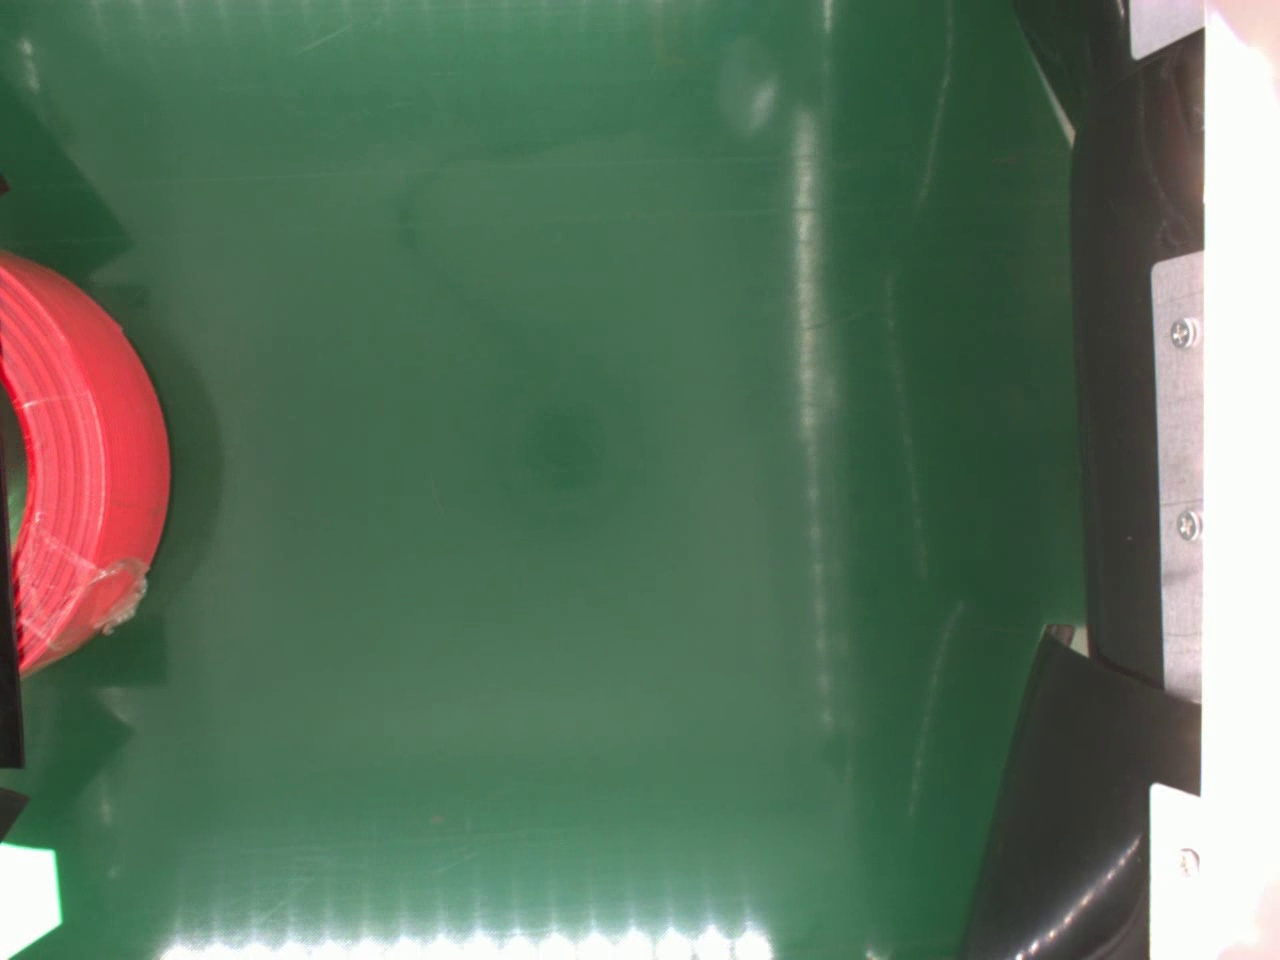red: (0, 248, 172, 671)
